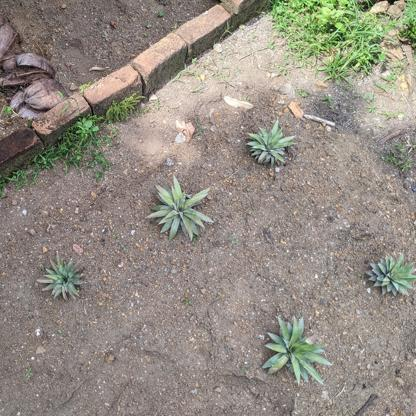pineapple: (260, 312, 336, 393), (148, 173, 214, 247), (244, 115, 300, 175), (38, 251, 92, 306), (365, 253, 416, 300)
